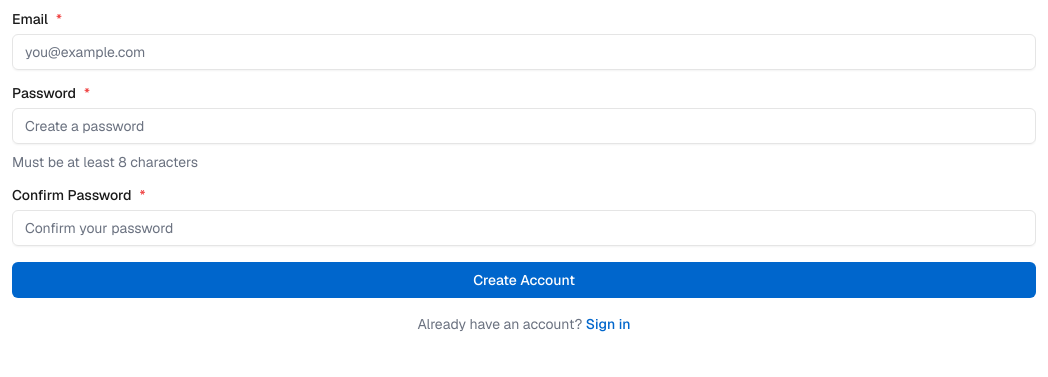
Test: RegisterForm › shows validation error when passwords do not match
Type "test@example.com" into the field labelled "Email *" at {"x": 524, "y": 52}, box left=12, top=34, right=1036, bottom=70
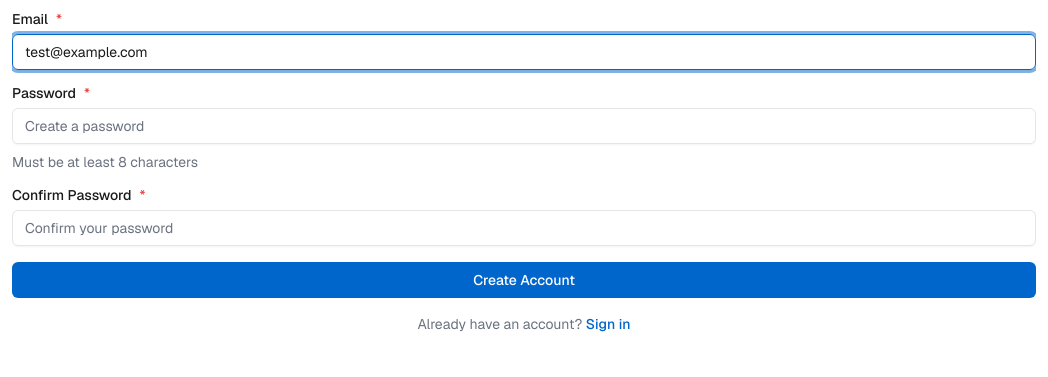
Type "password123" into the password field labelled "Password *" at {"x": 524, "y": 126}, box left=12, top=108, right=1036, bottom=144
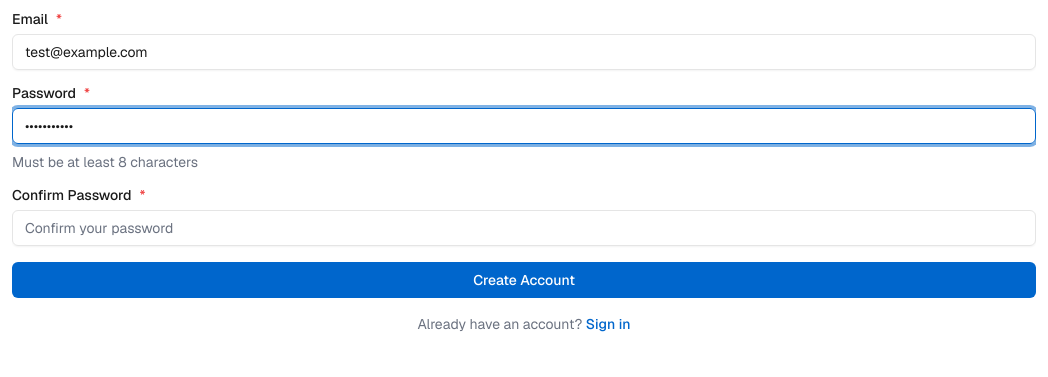
Type "differentpassword" into the password field labelled "Confirm Password *" at {"x": 524, "y": 228}, box left=12, top=210, right=1036, bottom=246
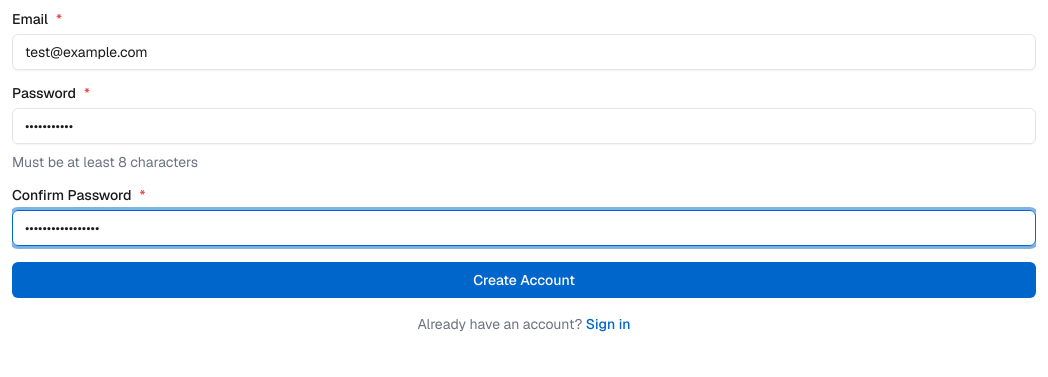
Click the button "Create Account" at {"x": 524, "y": 280}, box left=12, top=262, right=1036, bottom=298
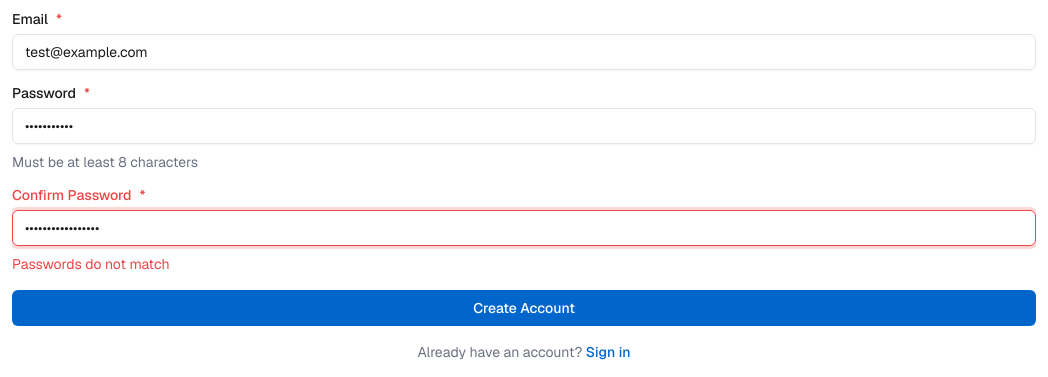
Expected: the text "Passwords do not match" is shown, left=12, top=255, right=170, bottom=273
